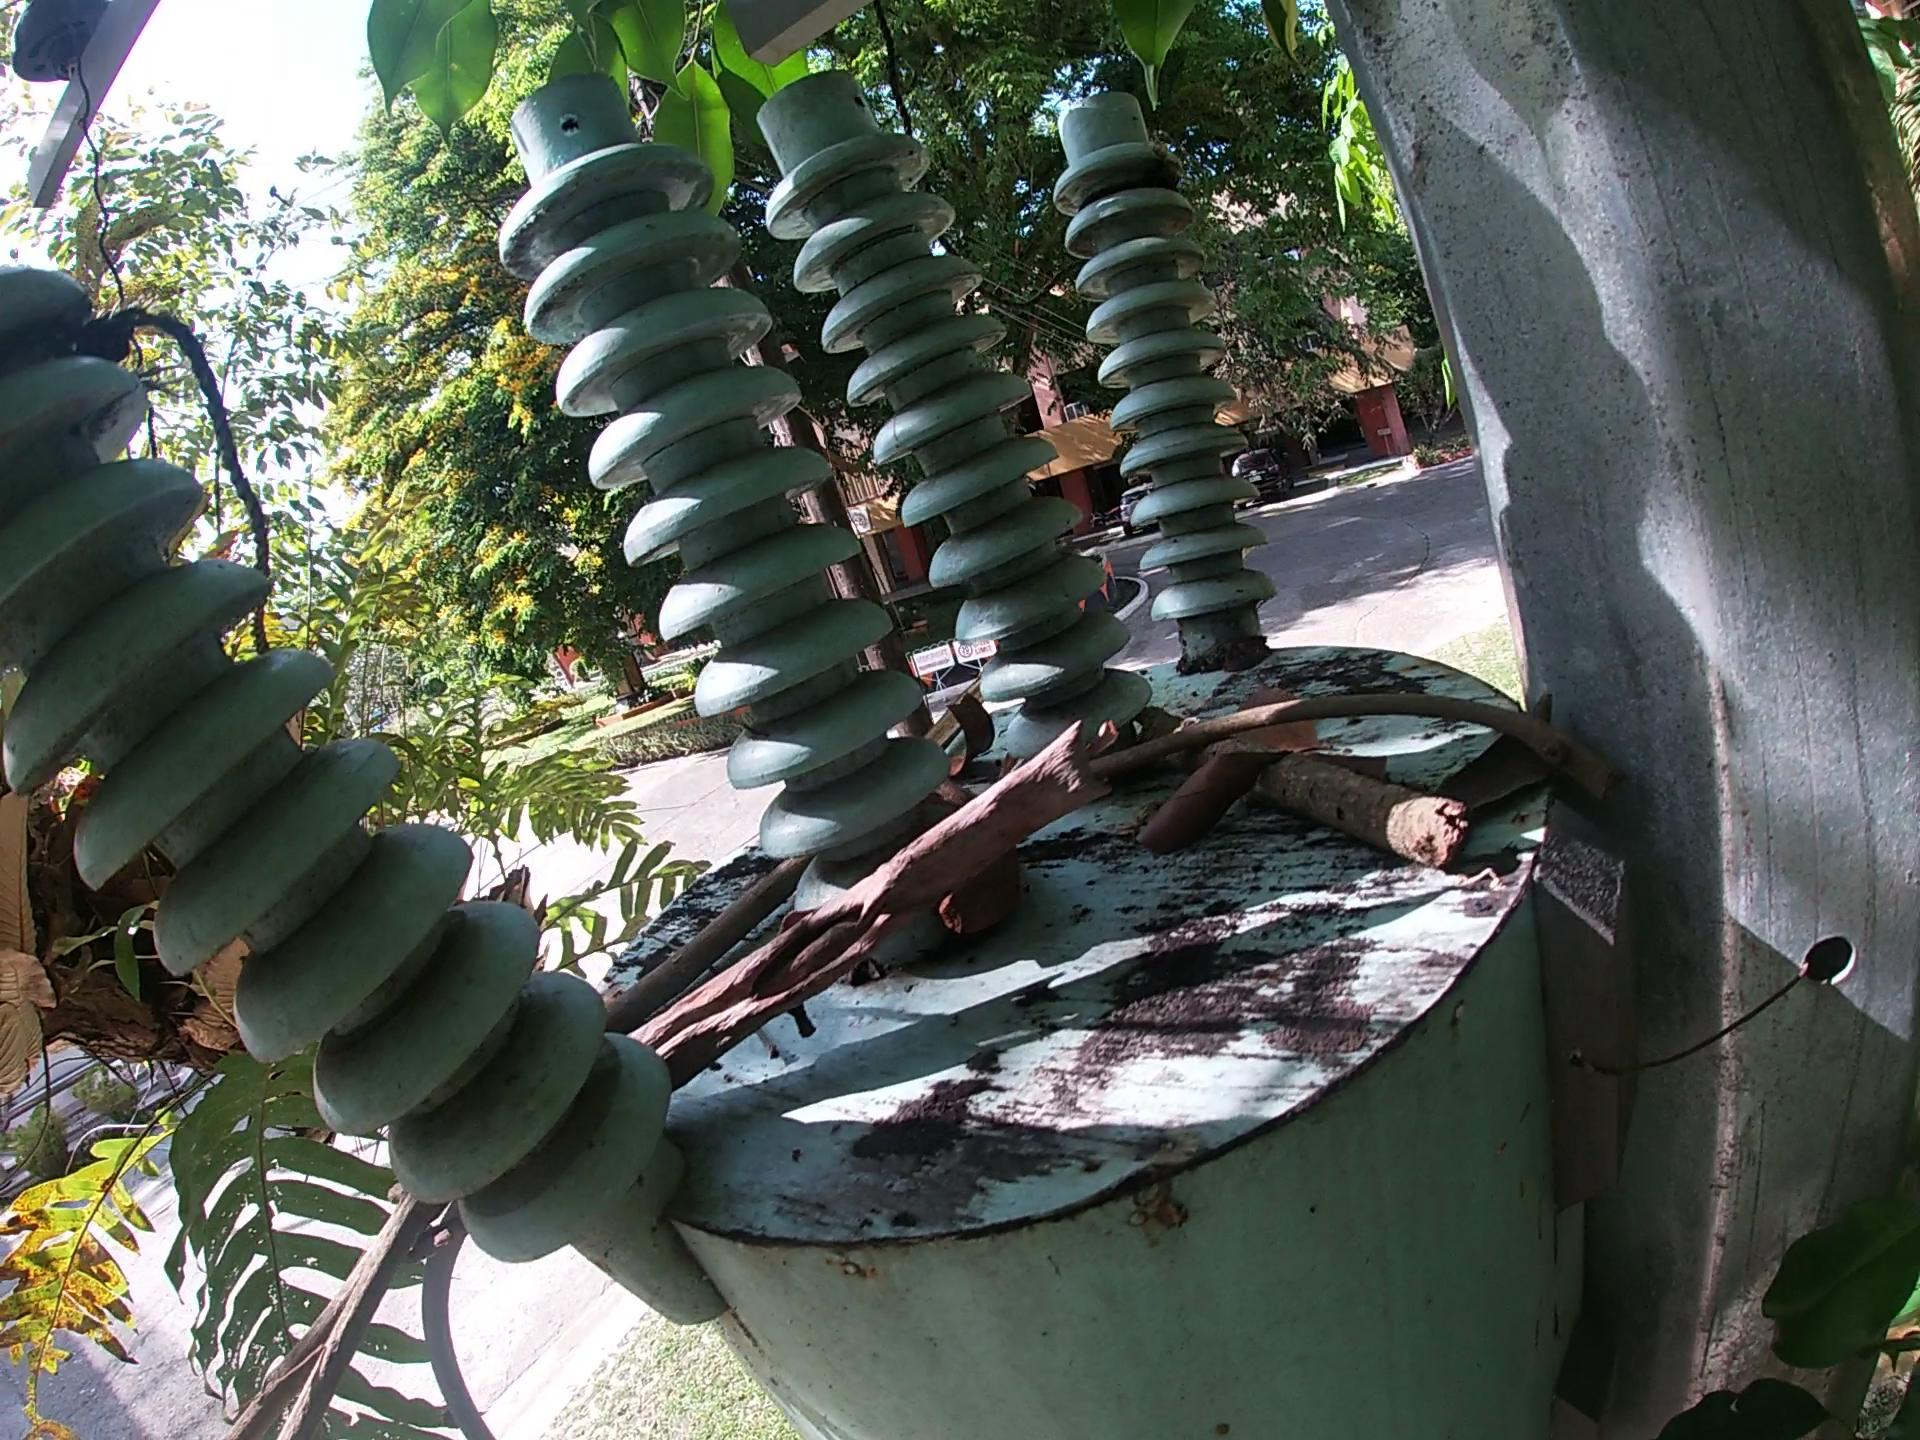leaf: (1132, 740, 1300, 861), (1432, 691, 1565, 817), (1223, 687, 1326, 758)
mahogany fruit: (918, 776, 1031, 942), (937, 685, 1004, 784)
tree branch: (624, 715, 1117, 1085), (1092, 690, 1637, 812), (1140, 706, 1480, 883), (224, 1186, 429, 1440), (600, 853, 812, 1038)
